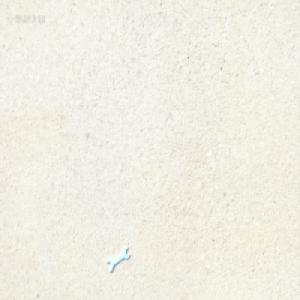Wrench: (107, 244, 129, 273)
